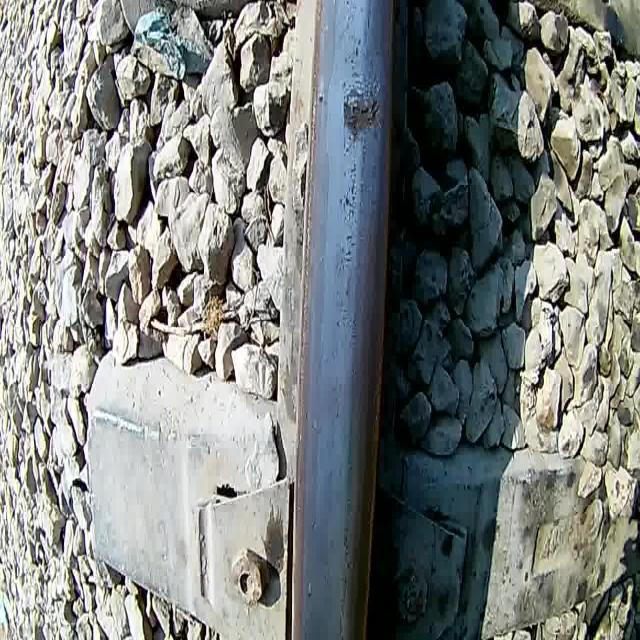Spallings: (340, 78, 385, 140)
